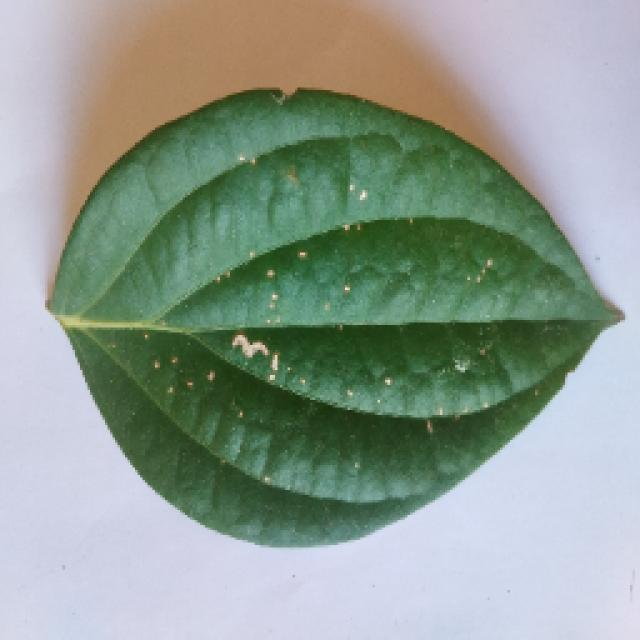pollu-disease: (35, 95, 615, 557)
